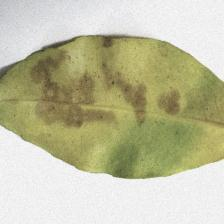black spot: (20, 46, 188, 148)
